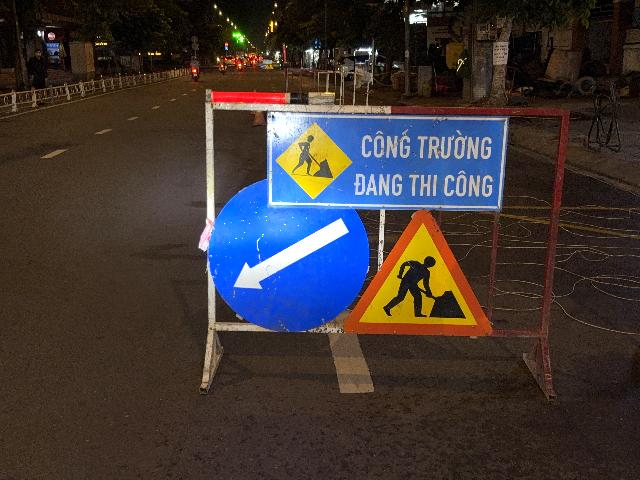cong-truong-dang-thi-cong: (344, 208, 492, 337)
huong-phai-di-vong-chuong-ngai-vat: (208, 177, 370, 333)
